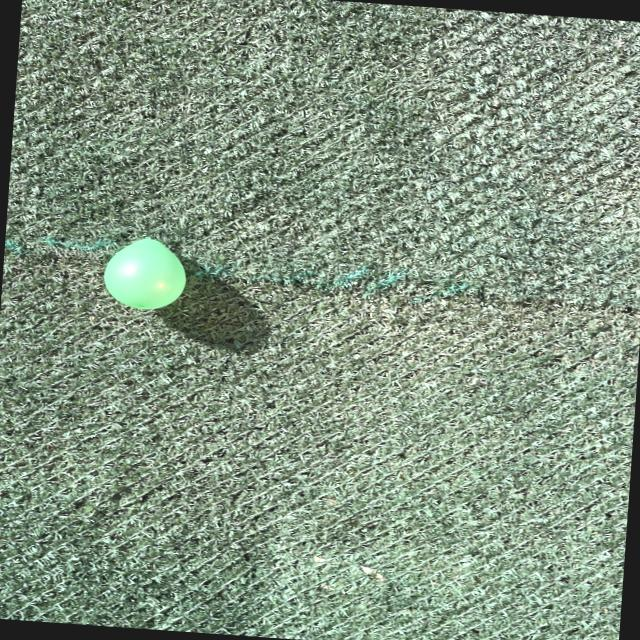balloon: (104, 238, 185, 309)
